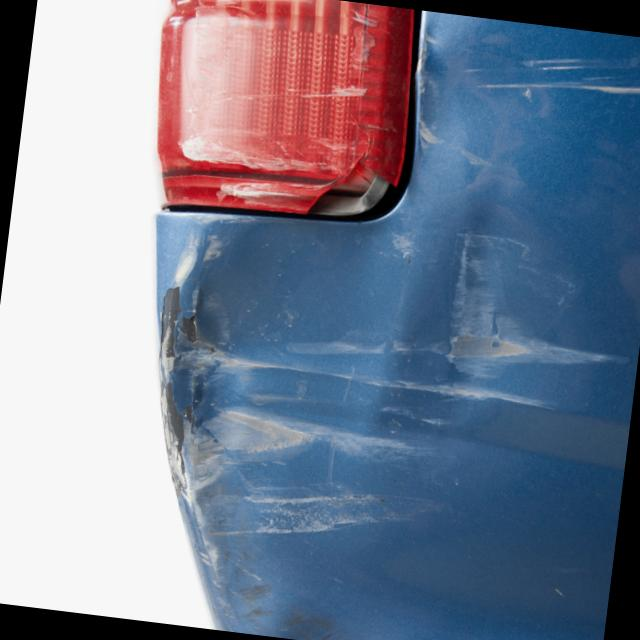Phare abime: (284, 118, 427, 256)
